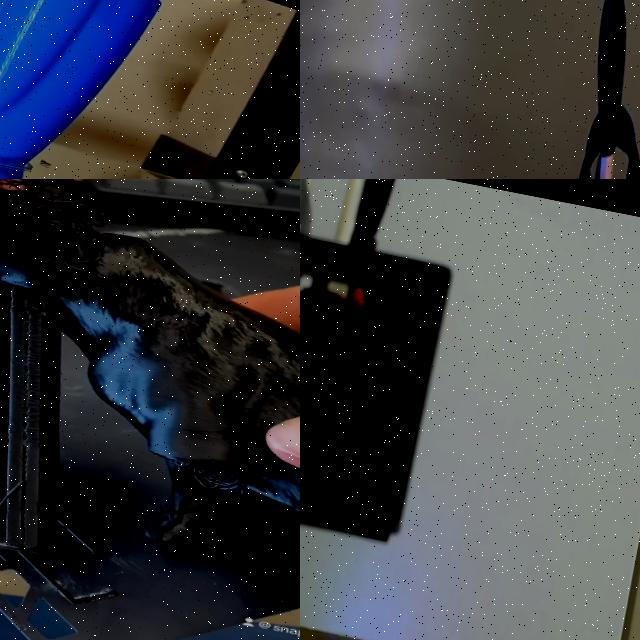spaghetti: (0, 179, 134, 288)
